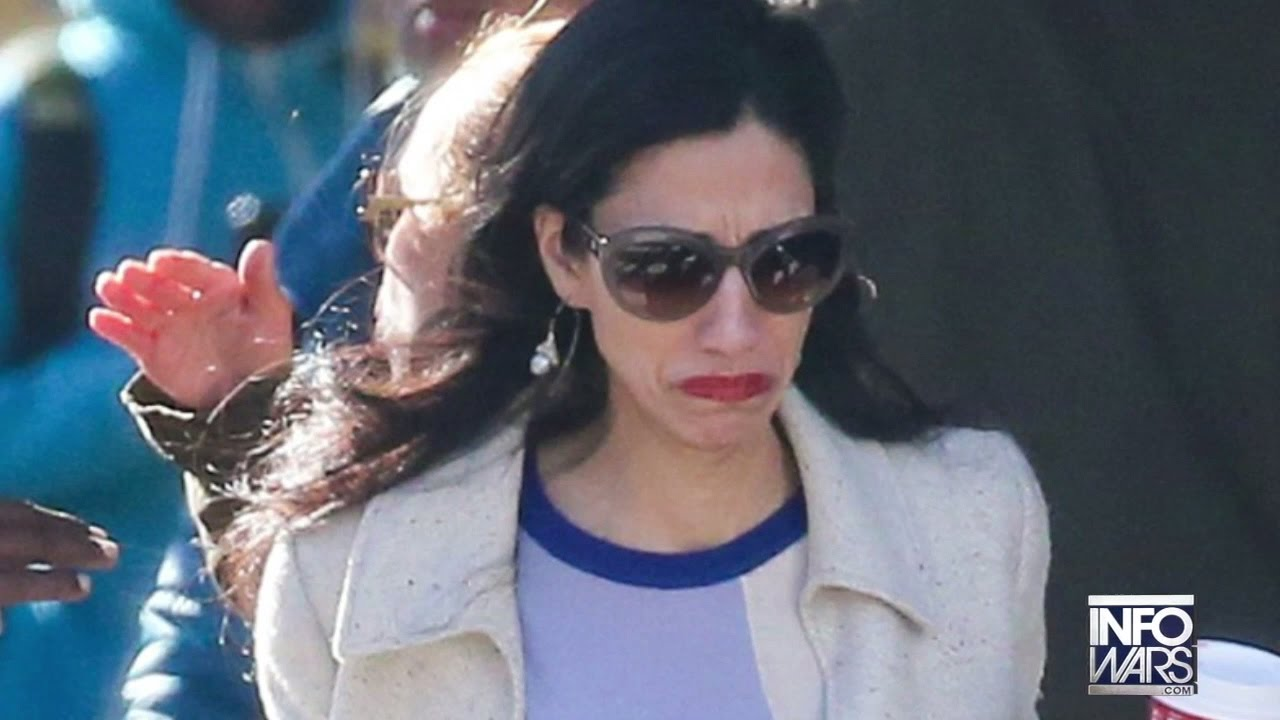sad: (594, 133, 839, 446)
